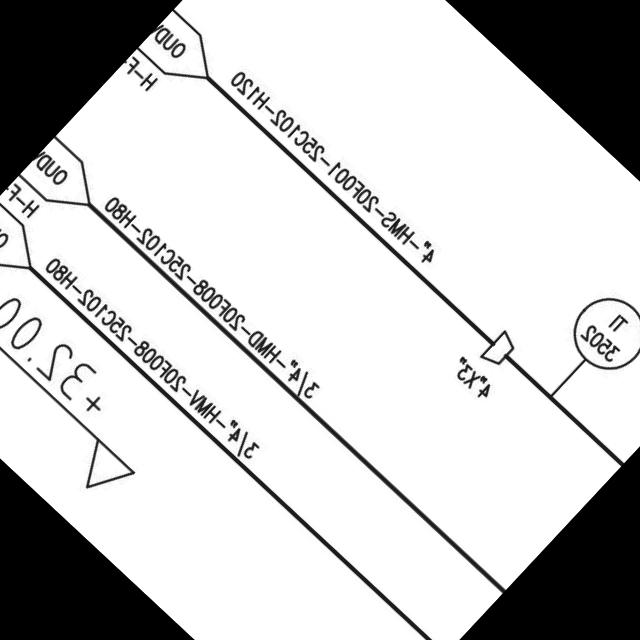SP: (476, 324, 524, 373)
